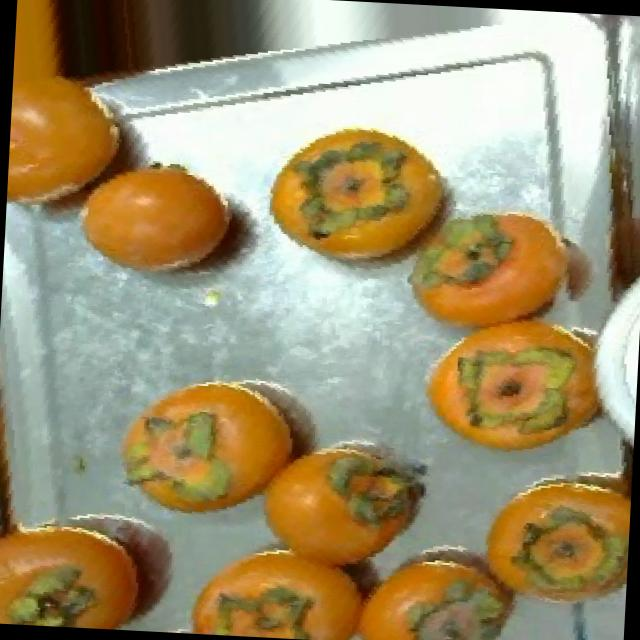Fruit: (240, 124, 462, 291), (54, 144, 260, 304), (460, 458, 632, 630), (167, 537, 336, 640), (390, 586, 527, 640)
